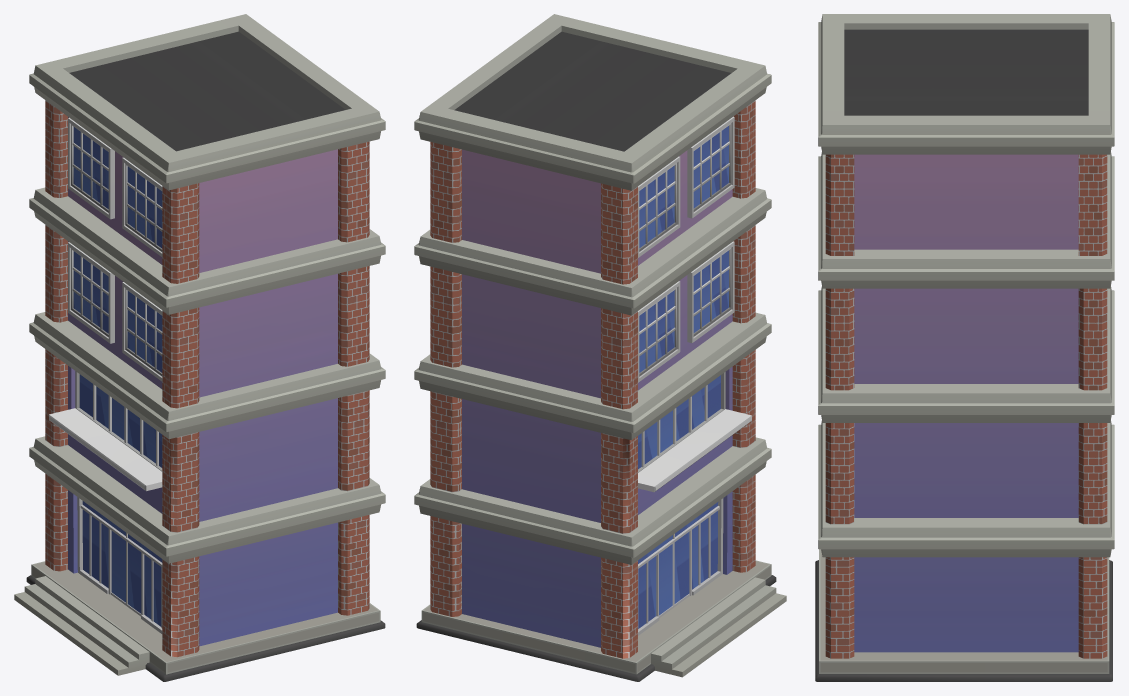
File: Building_9_1_L.glb
The picture shows the model from 3 angles, left to right: view 1: azimuth 30°, elevation 25°; view 2: azimuth 150°, elevation 25°; view 3: azimuth 270°, elevation 25°; orthographic projection. The views are drawn at different scales.
Parts seen in each view (by area): view 1: Building_9_1_L; view 2: Building_9_1_L; view 3: Building_9_1_L.
Part boxes in pixels (x1,y1,x2,y2): Building_9_1_L: (14, 14, 385, 681); Building_9_1_L: (414, 14, 786, 681); Building_9_1_L: (815, 14, 1114, 681).
Size of the model in its own units: 9.47 by 18.55 by 9.06.
Materials: 4 (4 with a texture image).
